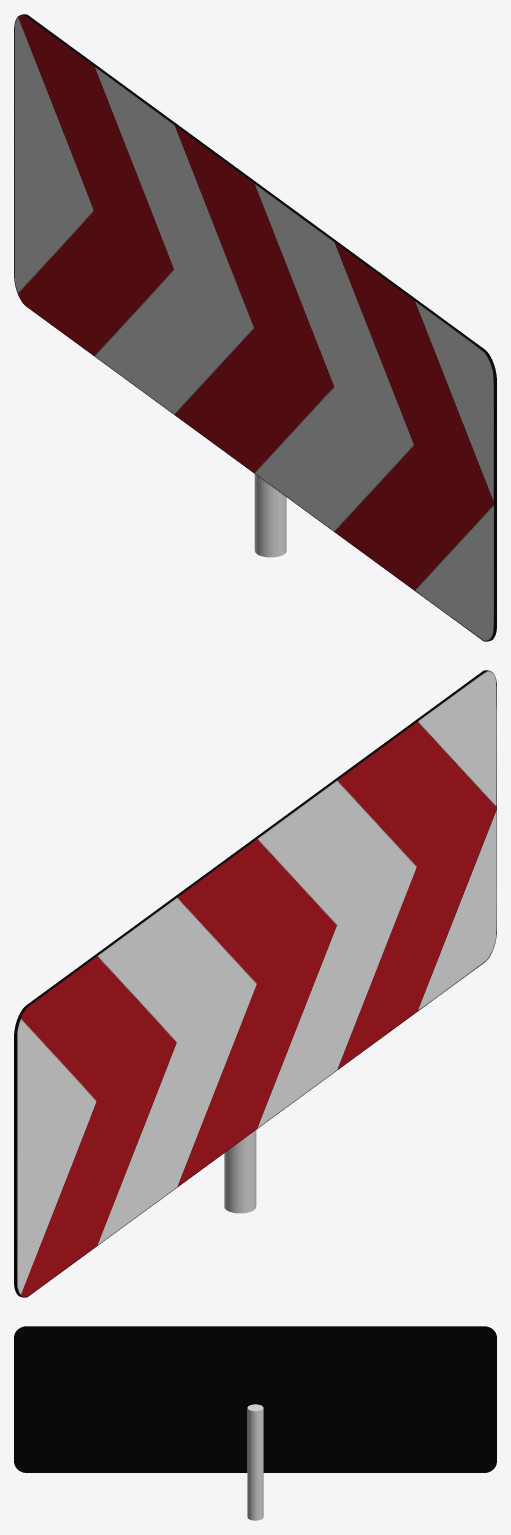
Rendered from sharp_turn_right_sign.dae.
3 renders of one model, top to bottom at view 1: azimuth 30°, elevation 25°; view 2: azimuth 150°, elevation 25°; view 3: azimuth 270°, elevation 25°, orthographic. The views are drawn at different scales.
Visible parts, largest first — view 1: path14346, Cylinder; view 2: path14346, Cylinder; view 3: path14346, Cylinder.
Boxes of the visible parts, left/top/right/bottom form: path14346: left=14, top=14, right=496, bottom=641; Cylinder: left=254, top=474, right=286, bottom=557; path14346: left=14, top=670, right=496, bottom=1297; Cylinder: left=224, top=1130, right=256, bottom=1213; path14346: left=14, top=1326, right=496, bottom=1472; Cylinder: left=247, top=1404, right=263, bottom=1520.
Size of the model in its own units: 0.011 by 0.3 by 0.128.
Materials: 3 (2 with a texture image).
